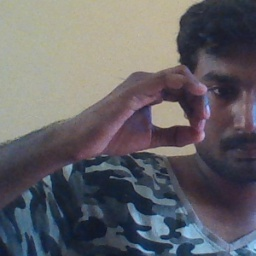O: (69, 63, 213, 162)
